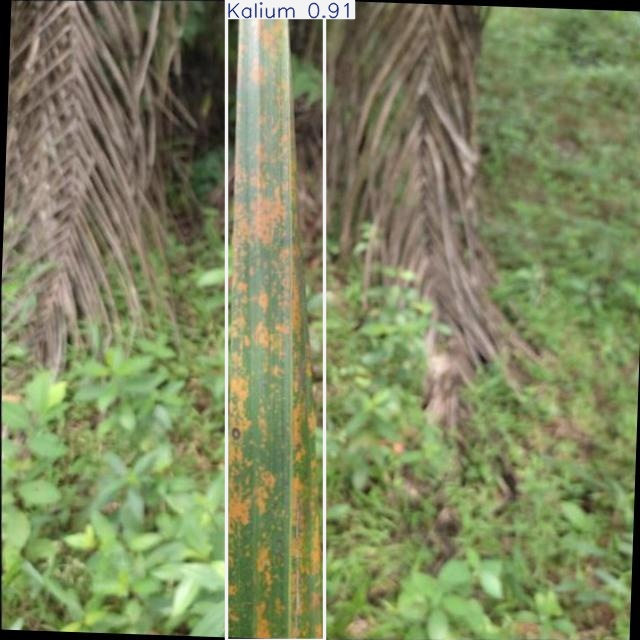Kalium: (227, 0, 324, 640)
